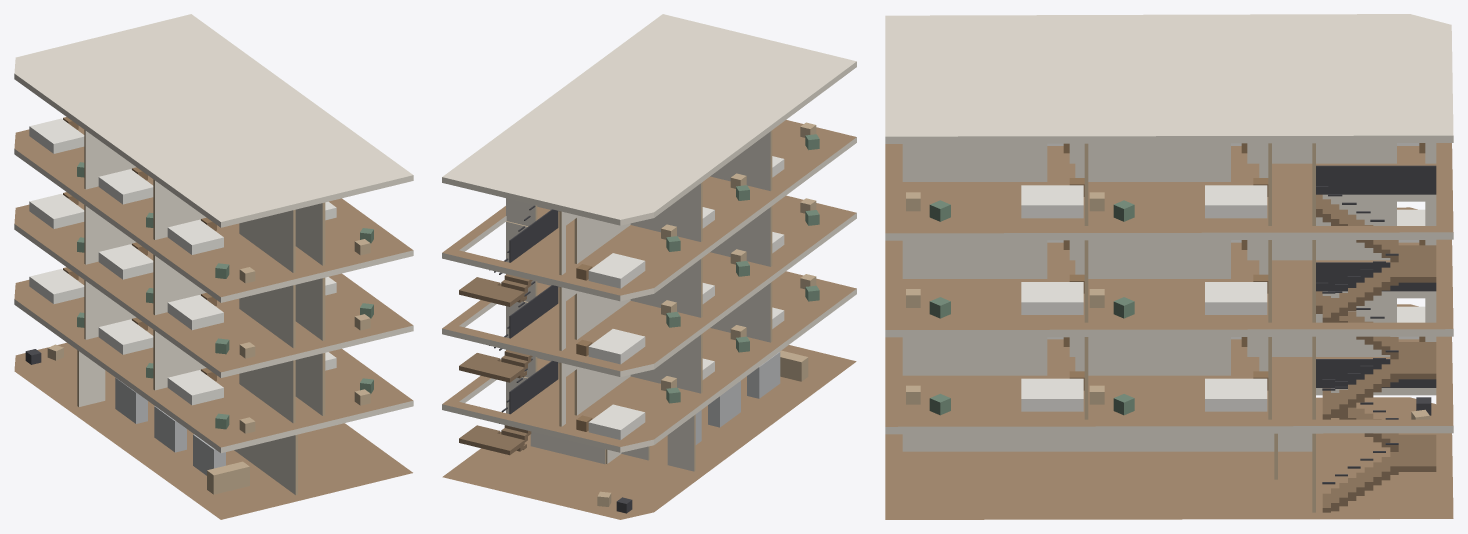
File: interior.glb
3 renders of one model, left to right at view 1: azimuth 30°, elevation 25°; view 2: azimuth 150°, elevation 25°; view 3: azimuth 270°, elevation 25°, orthographic. The views are drawn at different scales.
Visible parts, largest first — view 1: slabs, partitions, coarse-s1, coarse-s2, coarse-s3, coarse-s0; view 2: slabs, partitions, stair, coarse-s0, coarse-s1, coarse-s3, coarse-s2; view 3: slabs, partitions, stair, coarse-s1, coarse-s2, coarse-s3.
Boxes of the visible parts, x1,y1,x2,y2 form: slabs: (14,14,413,519); partitions: (77,130,325,495); coarse-s1: (29,267,373,433); coarse-s2: (29,192,373,358); coarse-s3: (29,117,373,283); coarse-s0: (25,344,249,494); slabs: (442,14,856,519); partitions: (506,130,772,471); stair: (459,205,558,455); coarse-s0: (597,350,808,513); coarse-s1: (576,274,819,439); coarse-s3: (576,122,819,288); coarse-s2: (576,198,819,364); slabs: (885,14,1453,519); partitions: (902,143,1436,512); stair: (1316,165,1436,512); coarse-s1: (906,306,1425,415); coarse-s2: (906,209,1425,318); coarse-s3: (906,143,1425,221).
Size of the model in its own units: 9.26 by 13.52 by 18.13.
